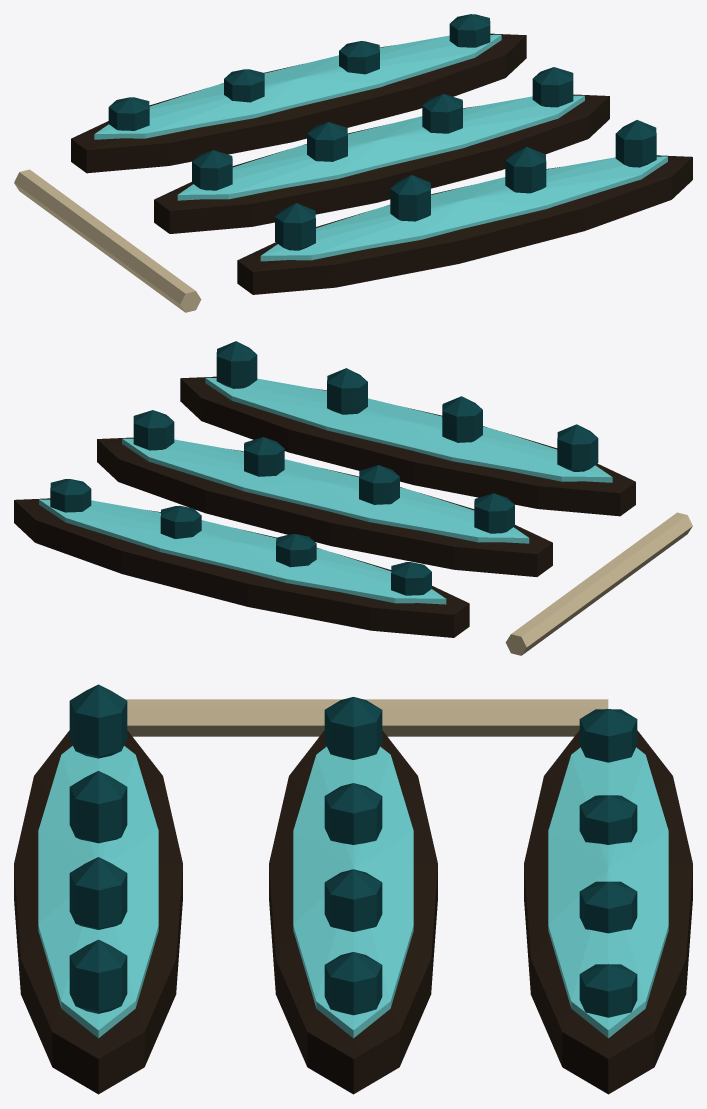
The model's file is farm_culture_bed_a.obj.
The picture shows the model from 3 angles, top to bottom: view 1: azimuth 30°, elevation 25°; view 2: azimuth 150°, elevation 25°; view 3: azimuth 270°, elevation 25°; orthographic projection. The views are drawn at different scales.
Visible parts, largest first — view 1: trough_2, trough_0, trough_1, culture_surface_2, culture_surface_1, culture_surface_0, feed_spine, culture_bud_2_1.8, culture_bud_2_0.65, culture_bud_2_-1.75, culture_bud_2_-0.55, culture_bud_1_1.8 (+7 smaller); view 2: trough_0, trough_1, trough_2, culture_surface_2, culture_surface_1, culture_surface_0, feed_spine, culture_bud_2_1.8, culture_bud_2_-1.75, culture_bud_2_-0.55, culture_bud_2_0.65, culture_bud_1_1.8 (+7 smaller); view 3: culture_surface_0, trough_2, trough_1, trough_0, culture_surface_1, culture_surface_2, feed_spine, culture_bud_2_1.8, culture_bud_2_-1.75, culture_bud_2_0.65, culture_bud_2_-0.55, culture_bud_1_1.8 (+7 smaller).
Part boxes in pixels (x1,y1,x2,y2): trough_2: [237, 155, 692, 294]; trough_0: [71, 33, 526, 173]; trough_1: [154, 94, 609, 233]; culture_surface_2: [260, 156, 667, 261]; culture_surface_1: [177, 95, 584, 200]; culture_surface_0: [94, 34, 501, 139]; feed_spine: [14, 169, 201, 312]; culture_bud_2_1.8: [615, 120, 656, 167]; culture_bud_2_0.65: [505, 147, 546, 193]; culture_bud_2_-1.75: [275, 203, 315, 250]; culture_bud_2_-0.55: [390, 175, 430, 221]; culture_bud_1_1.8: [532, 67, 573, 107]; trough_0: [14, 498, 469, 637]; trough_1: [97, 437, 552, 576]; trough_2: [180, 376, 635, 516]; culture_surface_2: [205, 377, 612, 482]; culture_surface_1: [122, 438, 529, 543]; culture_surface_0: [39, 499, 446, 604]; feed_spine: [505, 512, 692, 655]; culture_bud_2_1.8: [216, 341, 257, 388]; culture_bud_2_-1.75: [557, 424, 598, 471]; culture_bud_2_-0.55: [442, 396, 482, 442]; culture_bud_2_0.65: [327, 368, 367, 414]; culture_bud_1_1.8: [133, 410, 174, 450]; culture_surface_0: [548, 747, 668, 1038]; trough_2: [14, 730, 182, 1094]; trough_1: [269, 730, 437, 1094]; trough_0: [524, 730, 692, 1094]; culture_surface_1: [293, 746, 413, 1038]; culture_surface_2: [38, 746, 158, 1038]; feed_spine: [126, 699, 608, 736]; culture_bud_2_1.8: [69, 939, 127, 1013]; culture_bud_2_-1.75: [69, 684, 127, 758]; culture_bud_2_0.65: [69, 857, 127, 929]; culture_bud_2_-0.55: [69, 771, 127, 843]; culture_bud_1_1.8: [324, 952, 382, 1015].
Size of the model in its own units: 5.34 by 0.85 by 3.99.
